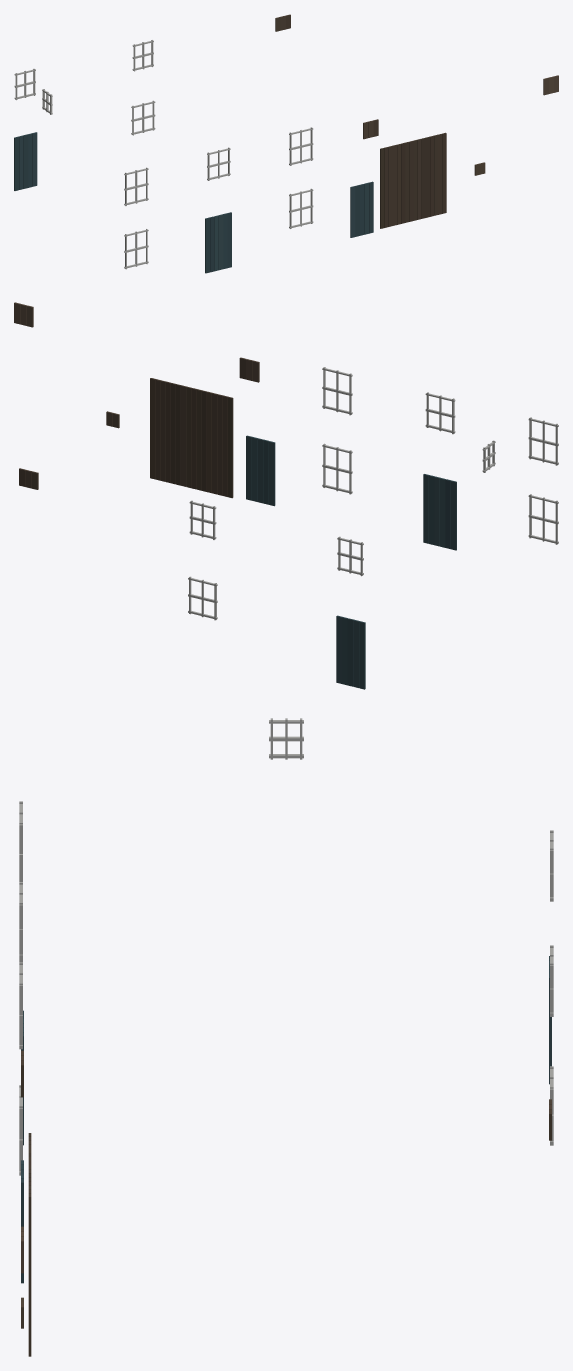
Rendered from SM_Bld_118_Wood.glb.
3 views of the same model, one above another, from view 1: azimuth 30°, elevation 25°; view 2: azimuth 150°, elevation 25°; view 3: azimuth 270°, elevation 25° (orthographic). The views are drawn at different scales.
Parts seen in each view (by area): view 1: SM_Bld_118_Wood; view 2: SM_Bld_118_Wood; view 3: SM_Bld_118_Wood.
Part boxes in pixels (<box>): SM_Bld_118_Wood: <box>14,14,558,273</box>; SM_Bld_118_Wood: <box>14,302,558,689</box>; SM_Bld_118_Wood: <box>19,718,553,1356</box>.
Size of the model in its own units: 17.57 by 5.85 by 9.11.
